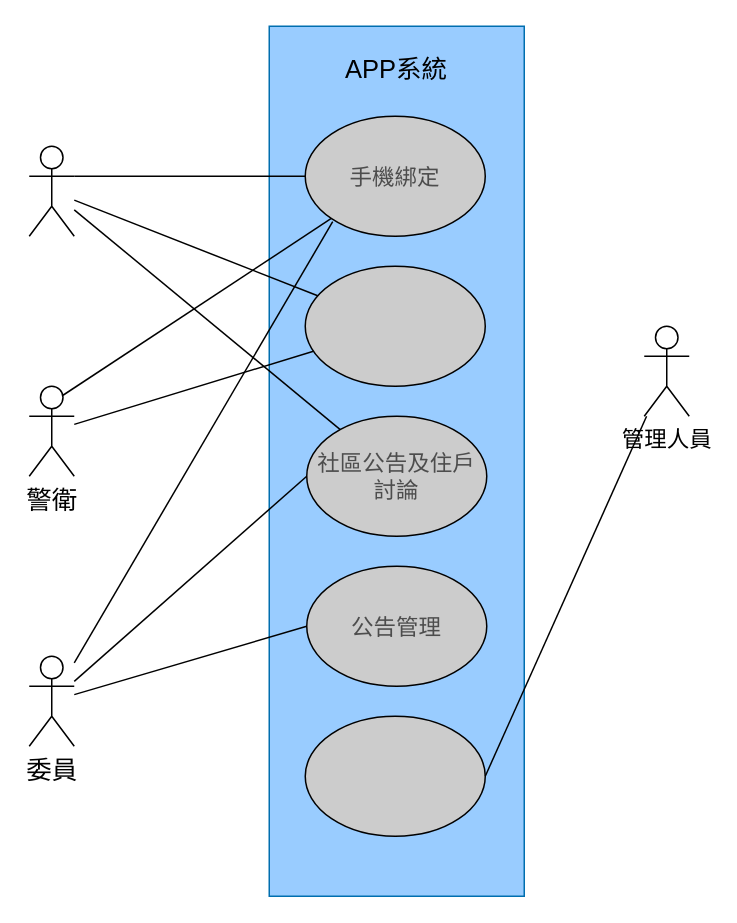
This 737x923 diagram has some shape labels left out. Each missing label, with the centre of its shape:
住戶: point 51,190
信件及包裹收發: point 394,325
系統更新與維護: point 394,775
